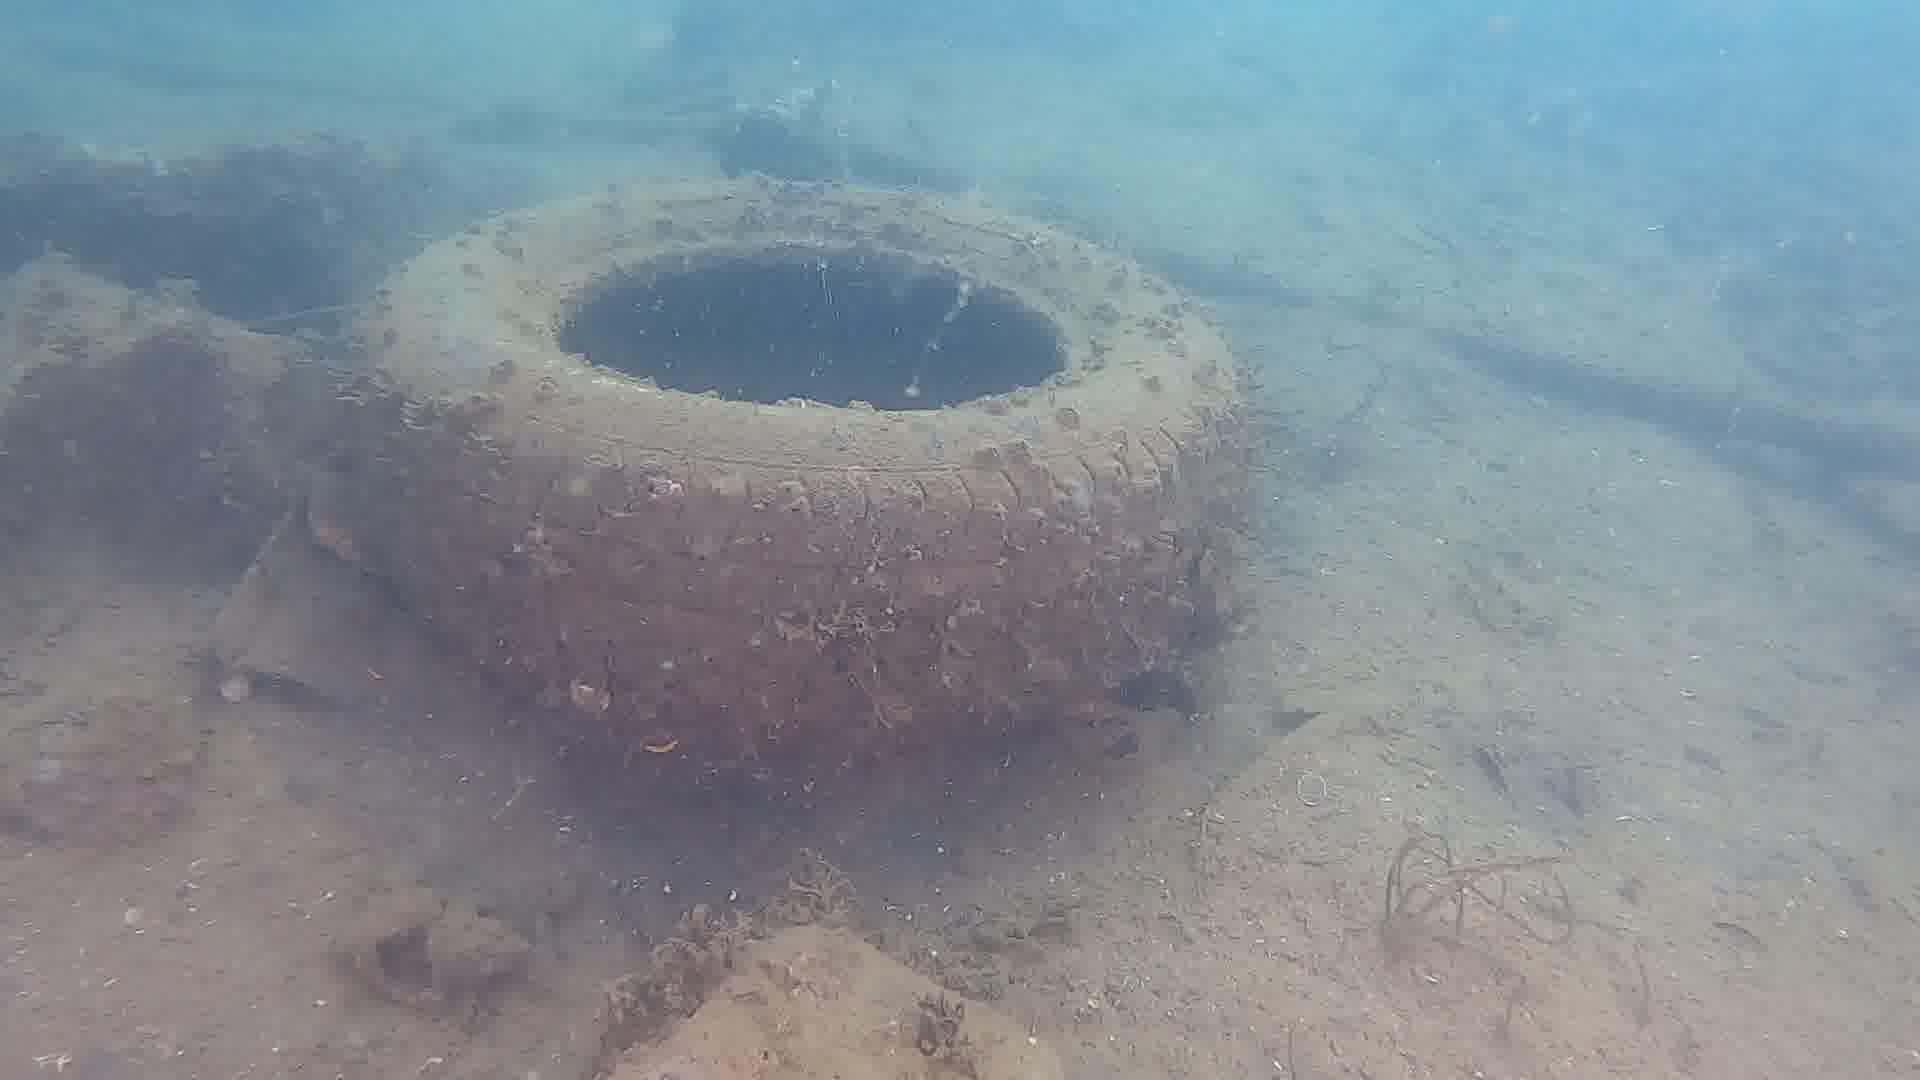tire: (348, 181, 1246, 738)
